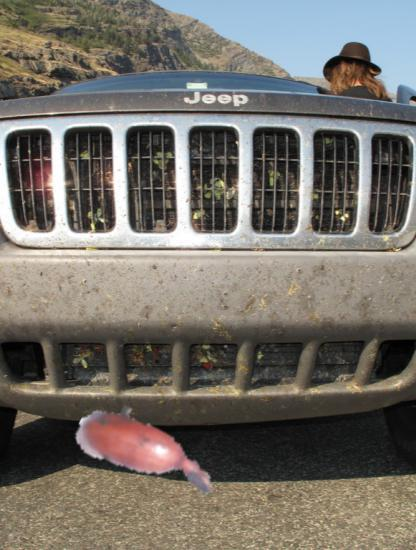Banana: (73, 380, 221, 528)
